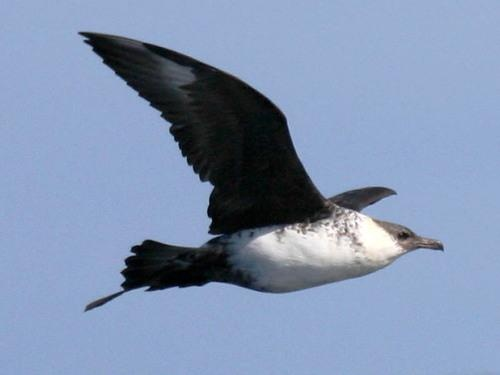bird: (73, 26, 446, 310)
